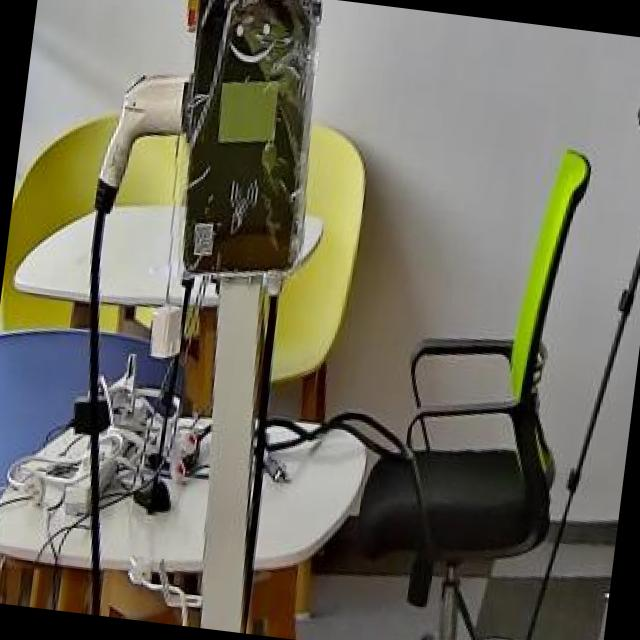Guns: (621, 36, 640, 139)
